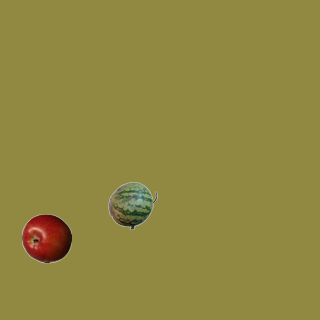Apple Braeburn: (21, 213, 71, 263)
Watermelon: (107, 180, 157, 230)
